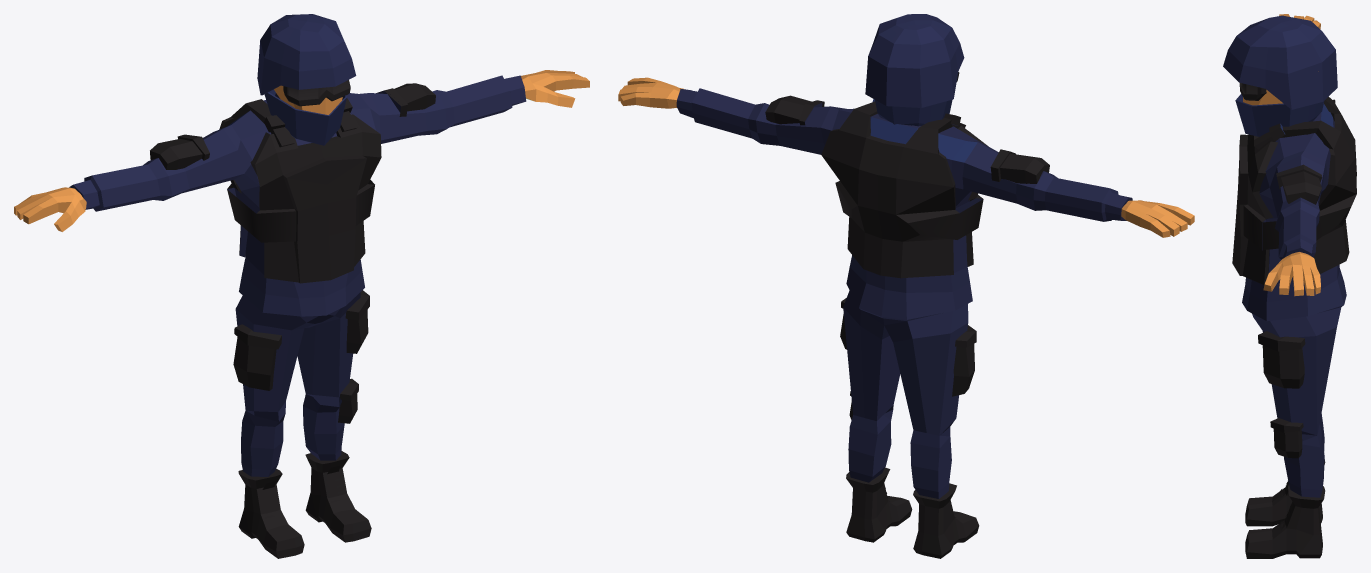
The model's file is robotmaincharcterasker_01.fbx.
3 renders of one model, left to right at view 1: azimuth 30°, elevation 25°; view 2: azimuth 150°, elevation 25°; view 3: azimuth 270°, elevation 25°, orthographic.
Visible parts, largest first — view 1: Soldat, Soldat.001, Soldat.002, Cube.227, Soldat.003, Soldat.004, Cube.205, Soldat.008, Soldat.007, Soldat.005; view 2: Soldat, Soldat.001, Cube.227, Soldat.002, Soldat.004, Soldat.008, Soldat.003, Cube.205, Soldat.007; view 3: Soldat, Soldat.001, Cube.227, Soldat.002, Soldat.003, Soldat.004, Cube.205, Soldat.007, Soldat.005.
Boxes of the visible parts, <box> form: Soldat: <box>69,75,547,476</box>; Soldat.001: <box>219,98,381,283</box>; Soldat.002: <box>238,451,371,558</box>; Cube.227: <box>257,14,356,95</box>; Soldat.003: <box>233,290,369,423</box>; Soldat.004: <box>14,70,589,231</box>; Cube.205: <box>264,89,346,145</box>; Soldat.008: <box>150,134,209,169</box>; Soldat.007: <box>376,83,435,116</box>; Soldat.005: <box>283,80,350,106</box>; Soldat: <box>676,88,1132,498</box>; Soldat.001: <box>821,101,988,278</box>; Cube.227: <box>865,14,964,107</box>; Soldat.002: <box>846,467,979,558</box>; Soldat.004: <box>618,77,1194,237</box>; Soldat.008: <box>990,149,1049,183</box>; Soldat.003: <box>840,298,976,419</box>; Cube.205: <box>875,99,952,126</box>; Soldat.007: <box>765,95,824,125</box>; Soldat: <box>1242,71,1346,497</box>; Soldat.001: <box>1232,96,1356,284</box>; Cube.227: <box>1223,15,1337,109</box>; Soldat.002: <box>1245,459,1325,558</box>; Soldat.003: <box>1258,331,1305,458</box>; Soldat.004: <box>1263,14,1320,296</box>; Cube.205: <box>1235,94,1324,136</box>; Soldat.007: <box>1276,164,1322,204</box>; Soldat.005: <box>1239,83,1266,100</box>.
Size of the model in its own units: 7.89 by 6.89 by 1.63.
